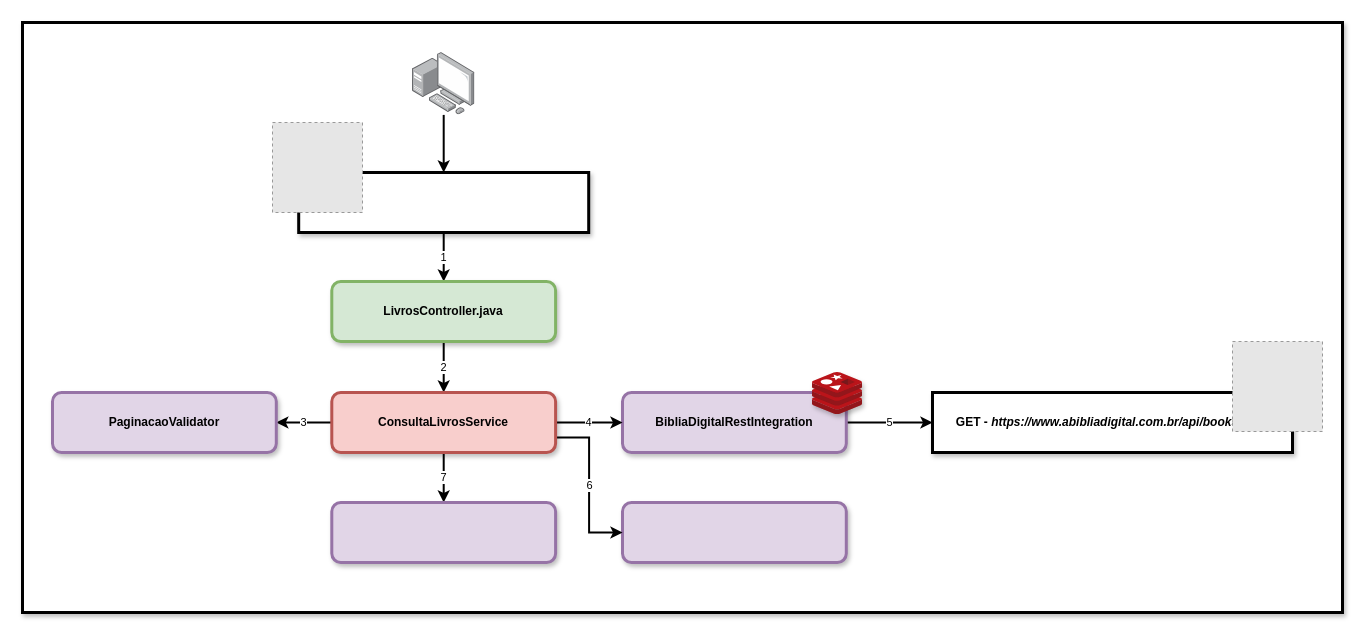
The diagram is 1367 pixels wide and 638 high, and some of its shapes have lost their labels. Grey dashed boxes stand in for pictures. Here are the shapes that lost their labels. From the top down, the centre of each, then its label:
At pixel 444 203: "GET - http://localhost:8090/livros".
At pixel 444 533: "PaginacaoService".
At pixel 734 533: "ConsultaLivrosResponseMapper".
